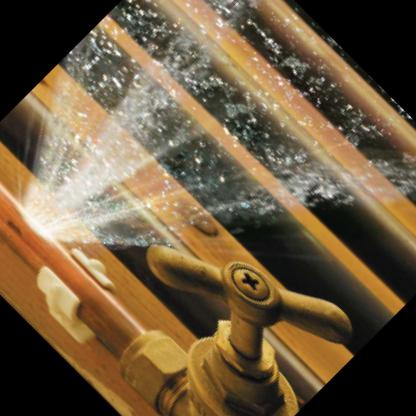burst: (12, 152, 90, 258)
